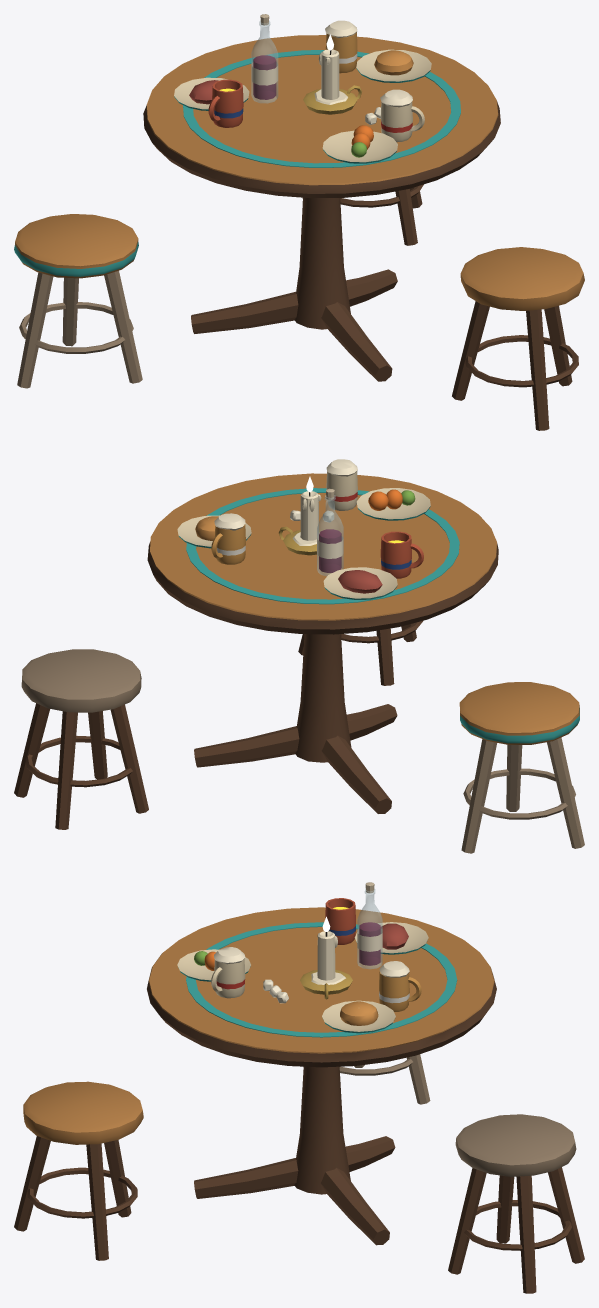
Rendered from deco_tavern_table.fbx.
3 renders of one model, top to bottom at view 1: azimuth 30°, elevation 25°; view 2: azimuth 150°, elevation 25°; view 3: azimuth 270°, elevation 25°, orthographic. The views are drawn at different scales.
Visible parts, largest first — view 1: TavernTable_Table, TavernTable_StoolC, TavernTable_StoolA, TavernTable_Tableware, TavernTable_Candle, TavernTable_StoolB; view 2: TavernTable_Table, TavernTable_StoolB, TavernTable_StoolC, TavernTable_Tableware, TavernTable_Candle, TavernTable_StoolA; view 3: TavernTable_Table, TavernTable_StoolB, TavernTable_StoolA, TavernTable_Tableware, TavernTable_Candle, TavernTable_StoolC.
Boxes of the visible parts, x1,y1,x2,y2 form: TavernTable_Table: [143, 35, 500, 381]; TavernTable_StoolC: [14, 214, 142, 388]; TavernTable_StoolA: [452, 247, 584, 430]; TavernTable_Tableware: [174, 14, 431, 163]; TavernTable_Candle: [303, 34, 361, 114]; TavernTable_StoolB: [340, 184, 423, 245]; TavernTable_Table: [147, 473, 498, 813]; TavernTable_StoolB: [14, 649, 148, 829]; TavernTable_StoolC: [459, 682, 584, 853]; TavernTable_Tableware: [177, 459, 430, 599]; TavernTable_Candle: [278, 476, 321, 555]; TavernTable_StoolA: [298, 621, 422, 685]; TavernTable_Table: [147, 907, 496, 1245]; TavernTable_StoolB: [448, 1114, 584, 1293]; TavernTable_StoolA: [14, 1081, 143, 1260]; TavernTable_Tableware: [177, 882, 428, 1033]; TavernTable_Candle: [300, 916, 352, 999]; TavernTable_StoolC: [339, 1054, 430, 1104].
Bounding box in the file's own units: 227 × 137 × 236.
